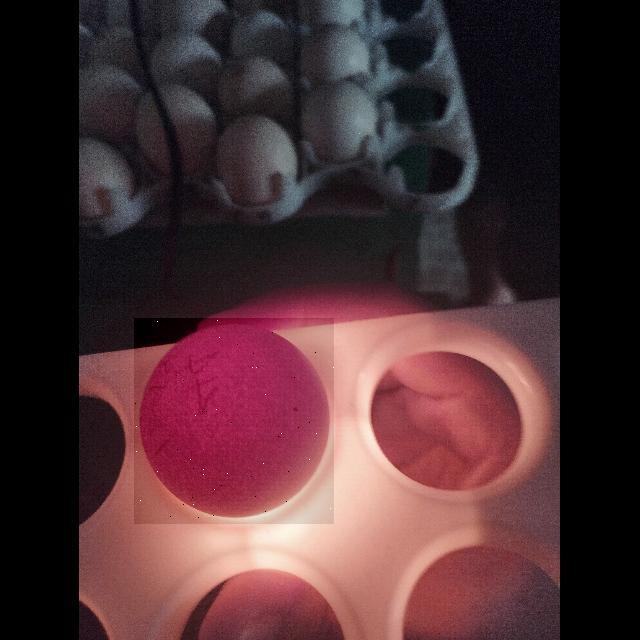Infertile: (134, 318, 334, 524)
